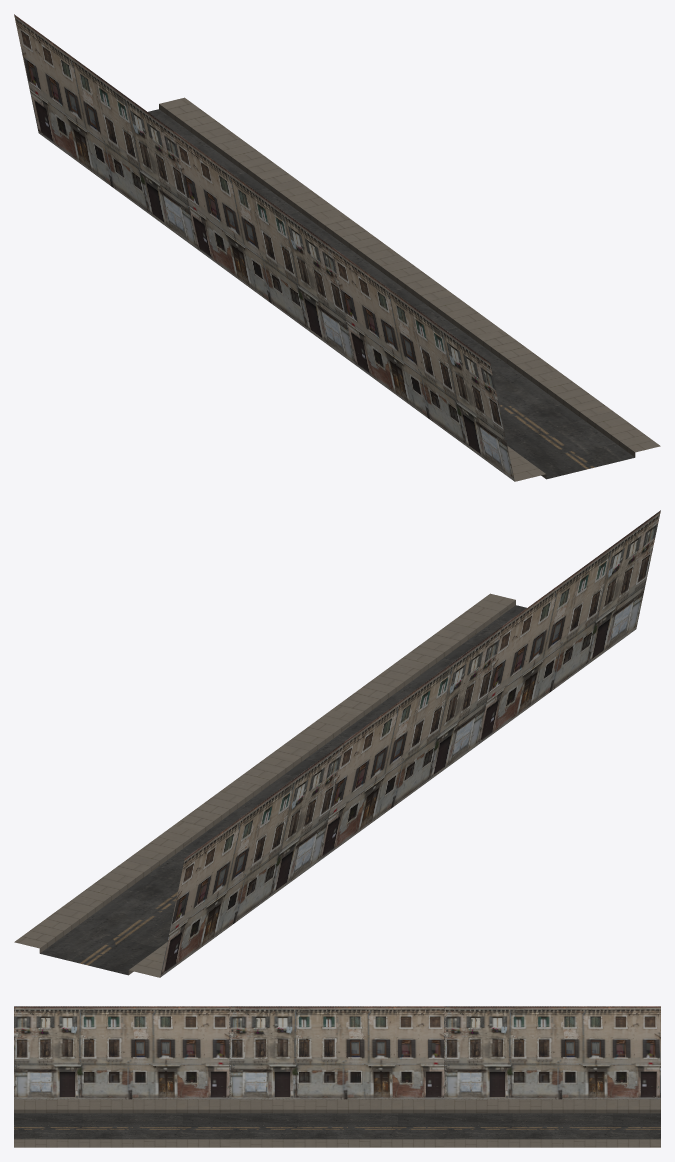
File: Outside.fbx
The picture shows the model from 3 angles, top to bottom: view 1: azimuth 30°, elevation 25°; view 2: azimuth 150°, elevation 25°; view 3: azimuth 270°, elevation 25°; orthographic projection. The views are drawn at different scales.
Visible parts, largest first — view 1: Plane.002; view 2: Plane.002; view 3: Plane.002.
Part boxes in pixels (<box>): Plane.002: <box>14,14,660,481</box>; Plane.002: <box>14,510,660,977</box>; Plane.002: <box>14,1006,660,1147</box>.
Bounding box in the file's own units: 123 × 90.07 × 596.
3 materials, 3 textured.
